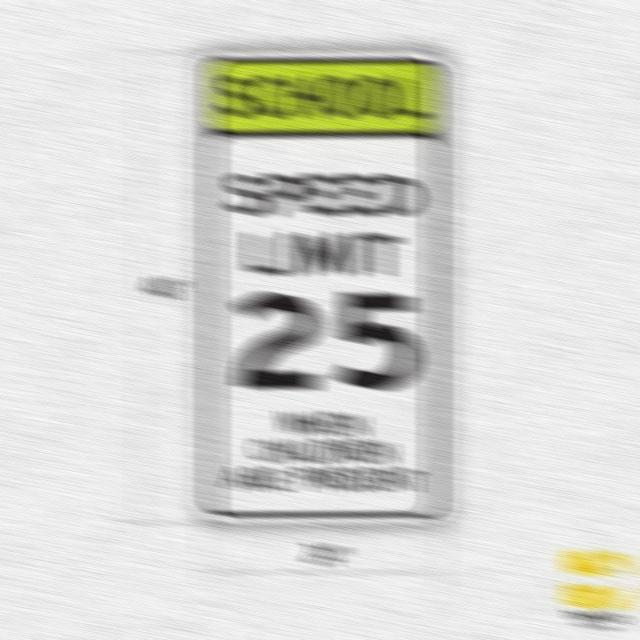speedLimit25: (205, 141, 444, 514)
